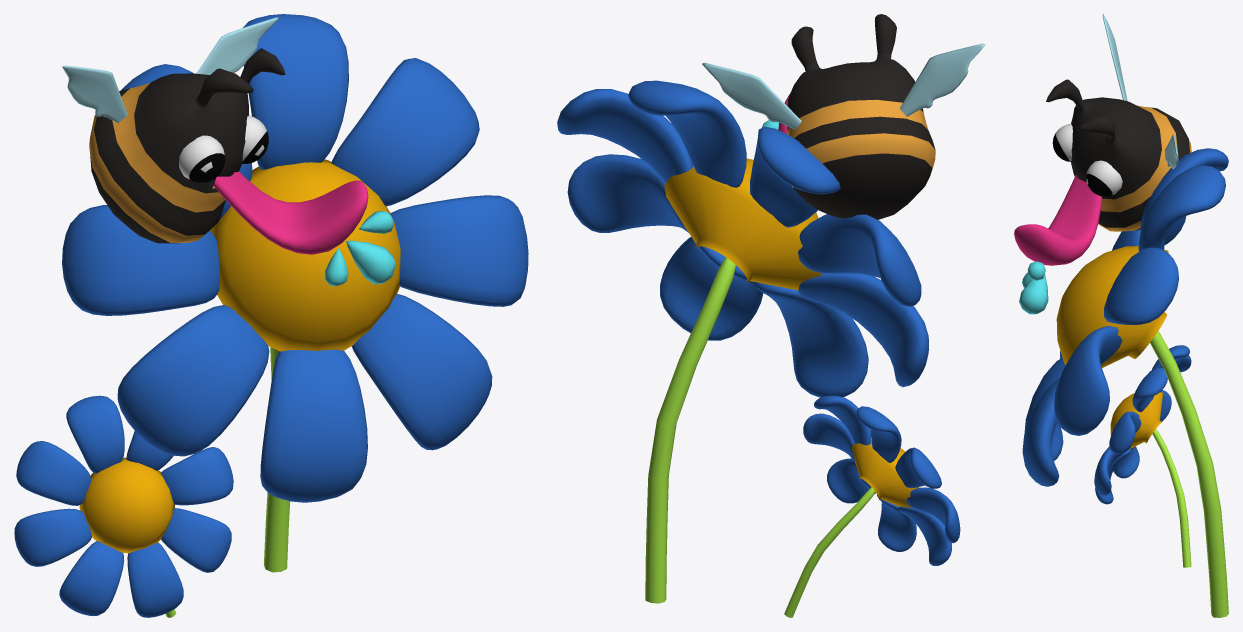
The model's file is bee-smooching-a-flow-by-quaternius-CFCLBY40oh.glb.
3 views of the same model, side by side, from view 1: azimuth 30°, elevation 25°; view 2: azimuth 150°, elevation 25°; view 3: azimuth 270°, elevation 25° (orthographic). The views are drawn at different scales.
Parts seen in each view (by area): view 1: Bee smooching a flower; view 2: Bee smooching a flower; view 3: Bee smooching a flower.
Boxes of the visible parts, <box> form: Bee smooching a flower: <box>14,14,528,617</box>; Bee smooching a flower: <box>557,14,985,617</box>; Bee smooching a flower: <box>1014,14,1228,617</box>.
Bounding box in the file's own units: 2.2 × 2.83 × 1.12.
Materials: 2 (2 with a texture image).
